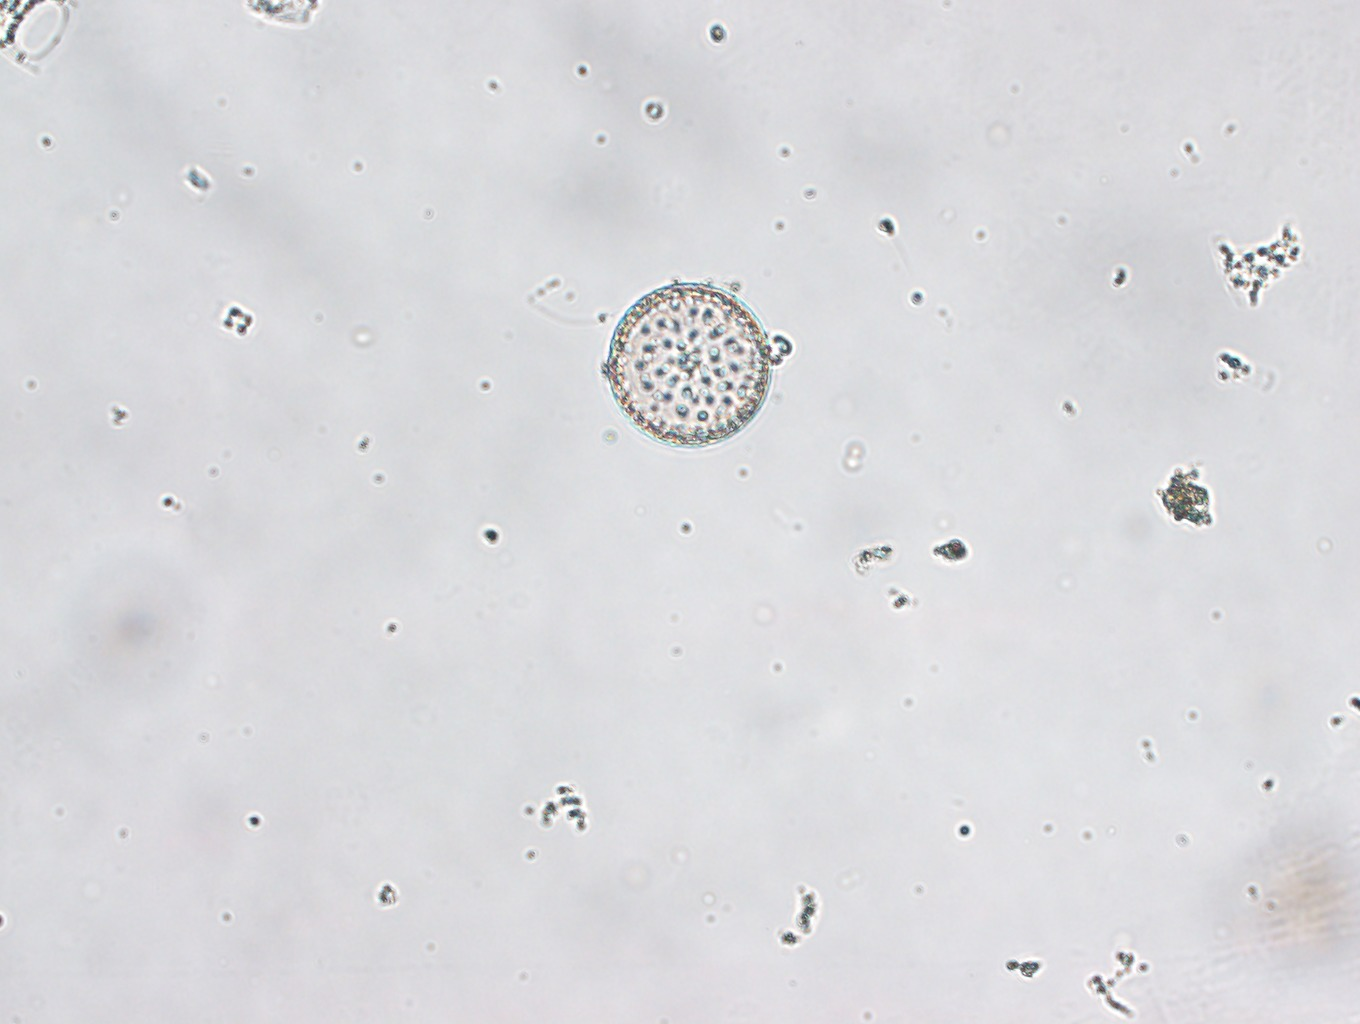coscinodiscus: (606, 280, 773, 447)
